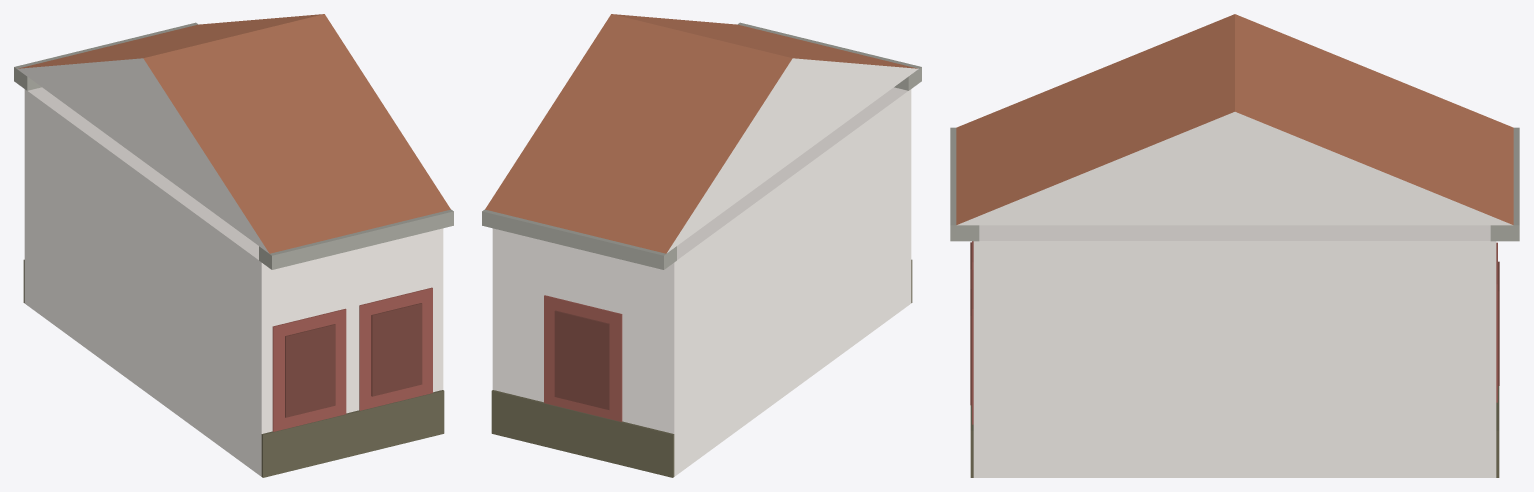
The model's file is SM_KitCuerpo_v3_LOD1.fbx.
The picture shows the model from 3 angles, left to right: view 1: azimuth 30°, elevation 25°; view 2: azimuth 150°, elevation 25°; view 3: azimuth 270°, elevation 25°; orthographic projection. The views are drawn at different scales.
Parts seen in each view (by area): view 1: SM_bloques.kit_cuerpo_v3_LOD1; view 2: SM_bloques.kit_cuerpo_v3_LOD1; view 3: SM_bloques.kit_cuerpo_v3_LOD1.
Boxes of the visible parts, left/top/right/bottom form: SM_bloques.kit_cuerpo_v3_LOD1: left=14, top=14, right=453, bottom=477; SM_bloques.kit_cuerpo_v3_LOD1: left=482, top=14, right=921, bottom=477; SM_bloques.kit_cuerpo_v3_LOD1: left=950, top=14, right=1519, bottom=477.
Bounding box in the file's own units: 3.99 × 6.96 × 9.8.
